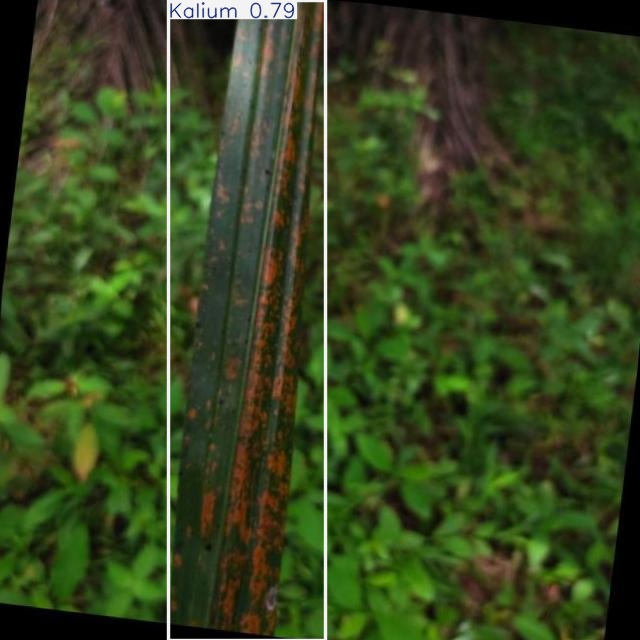Kalium: (168, 1, 325, 640)
